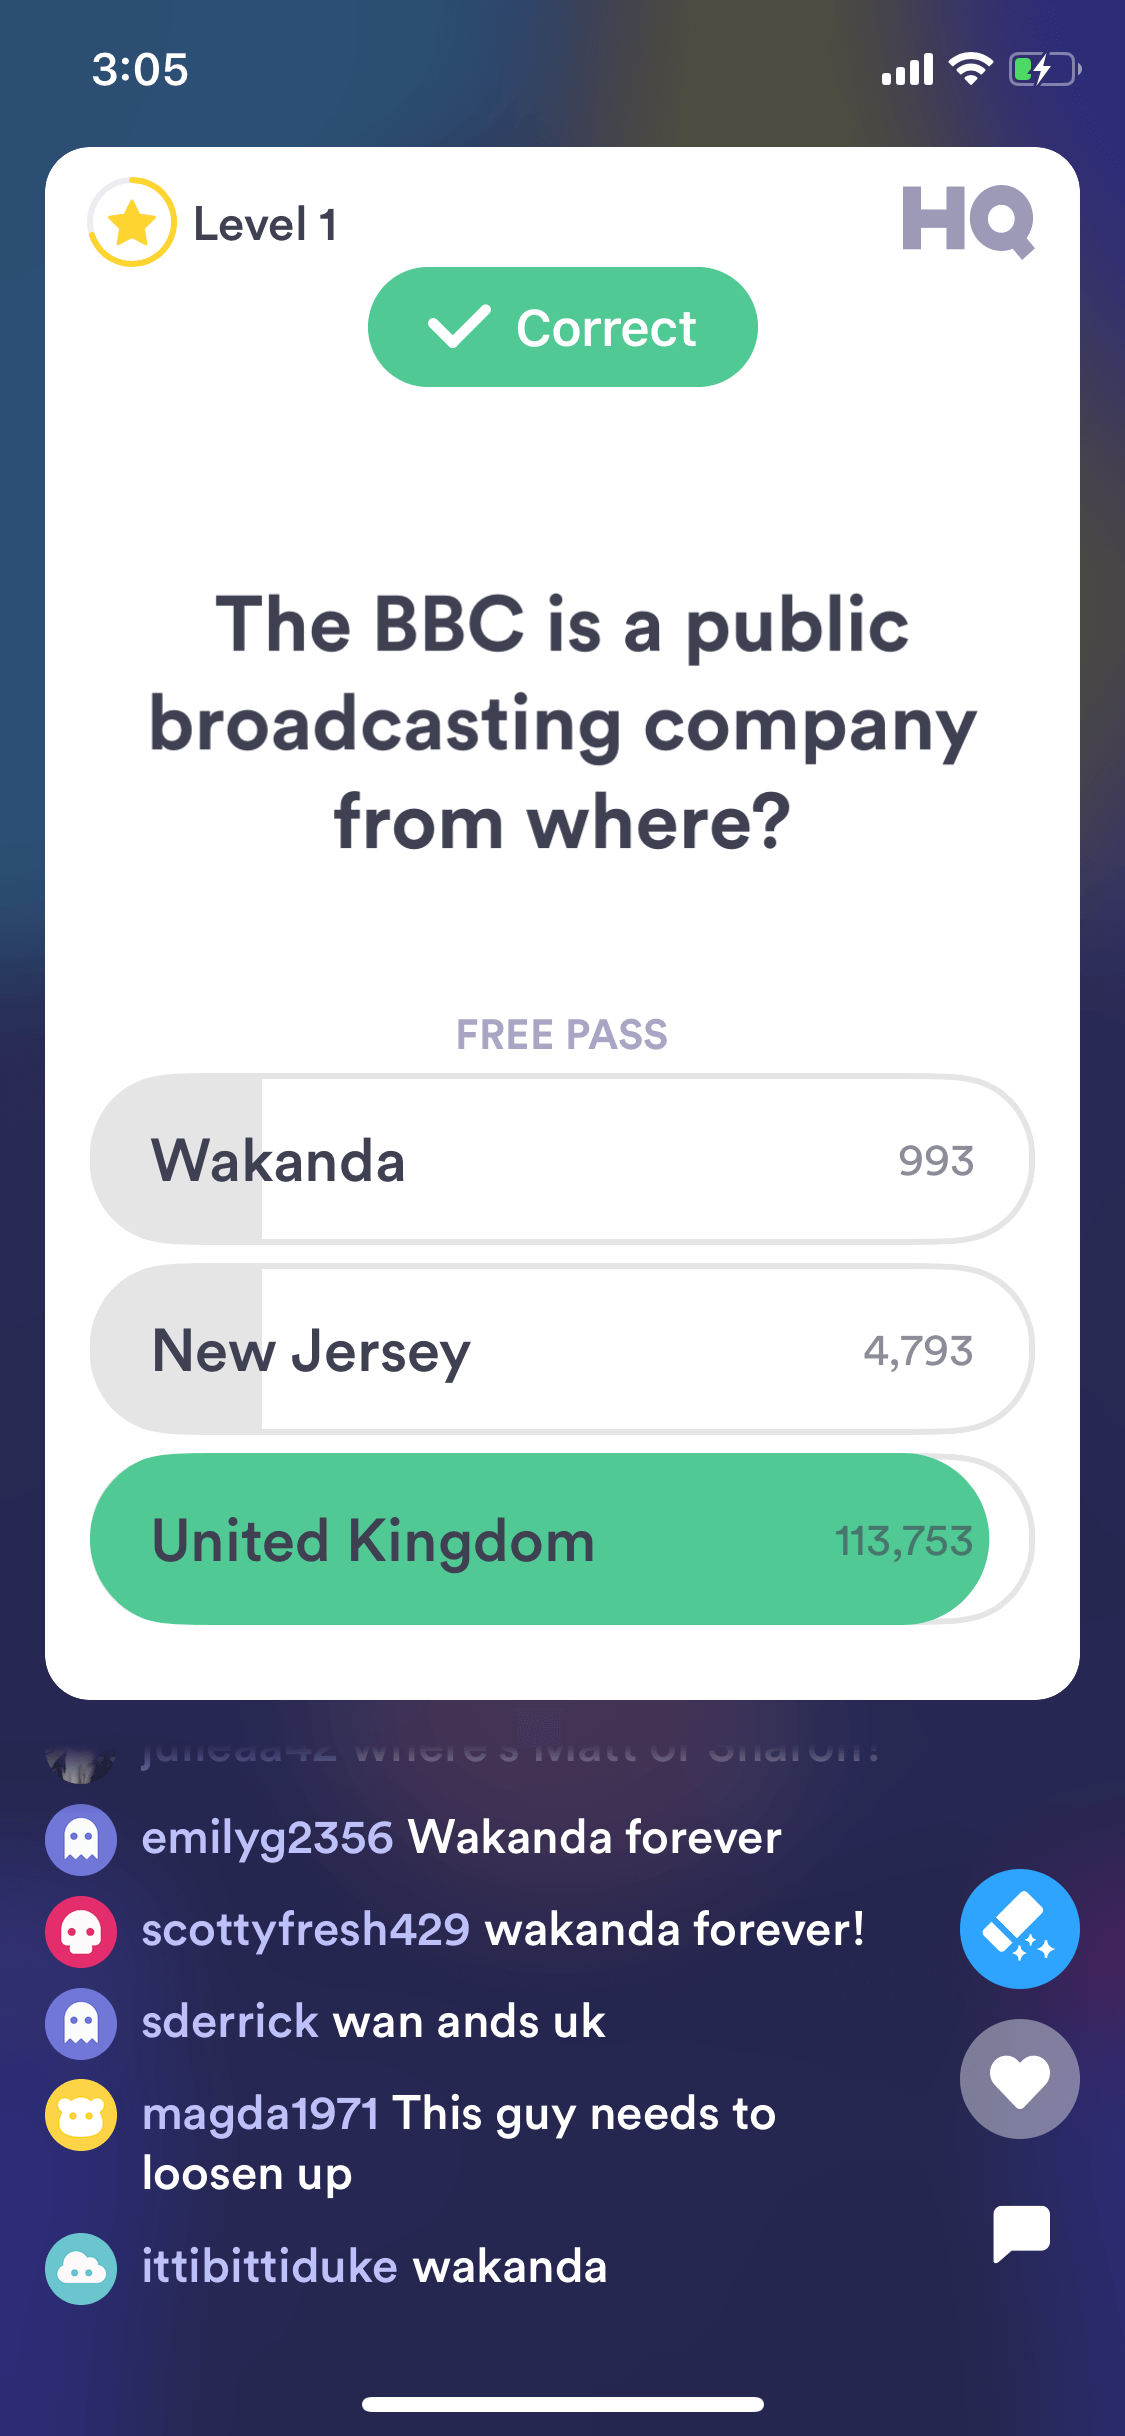Buttons: (360, 266, 771, 402)
FAB (Floating Action Button): (949, 2012, 1092, 2152), (953, 2170, 1095, 2305), (951, 1860, 1092, 1995)
